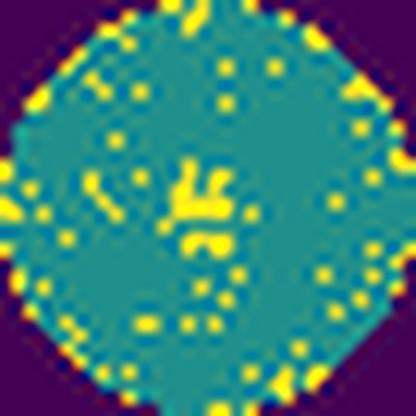Center: (162, 158, 242, 260)
